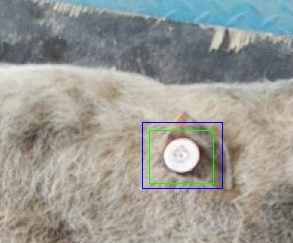text: (149, 130, 213, 183)
